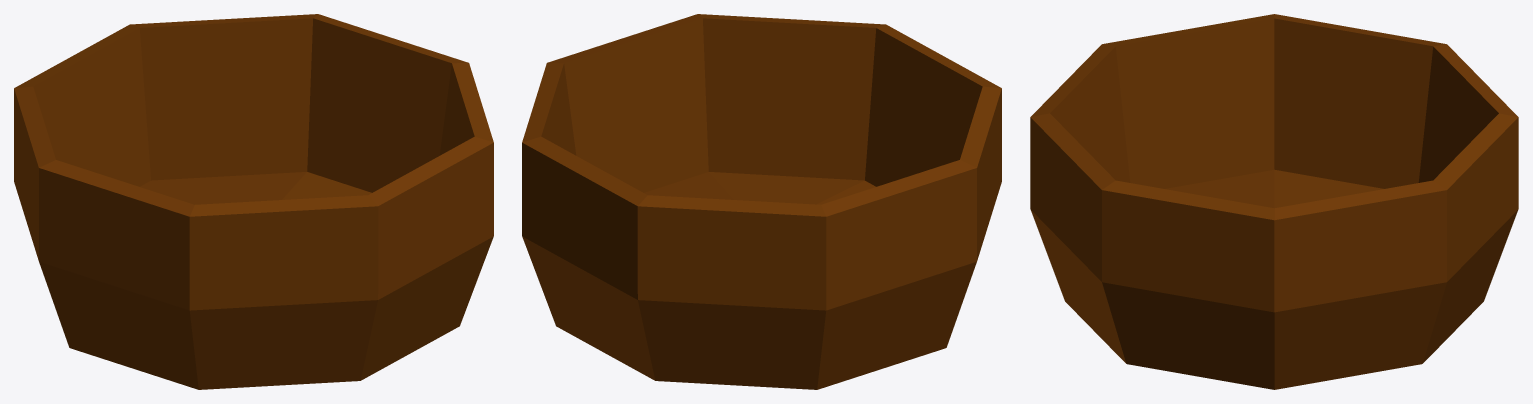
Rendered from Bowl2.fbx.
3 renders of one model, left to right at view 1: azimuth 30°, elevation 25°; view 2: azimuth 150°, elevation 25°; view 3: azimuth 270°, elevation 25°, orthographic.
Visible parts, largest first — view 1: Bowl2; view 2: Bowl2; view 3: Bowl2.
Boxes of the visible parts, x1,y1,x2,y2 form: Bowl2: [14, 14, 493, 389]; Bowl2: [522, 14, 1001, 389]; Bowl2: [1030, 14, 1518, 389].
Bounding box in the file's own units: 21.6 × 9.18 × 21.6.
